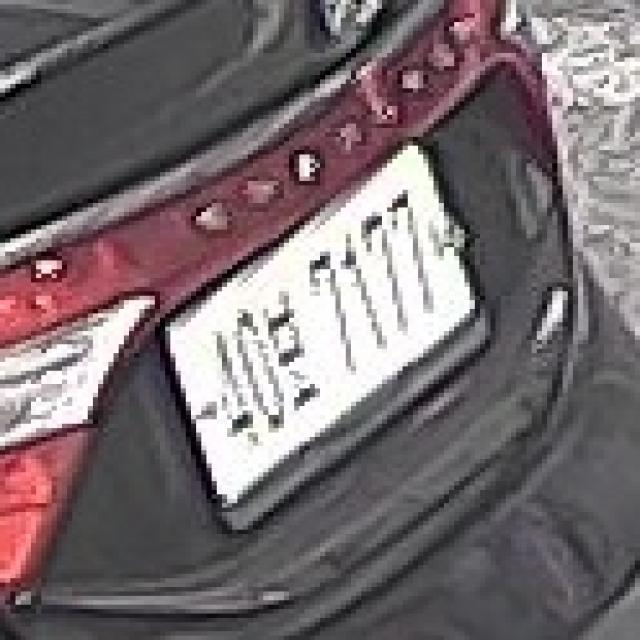0: (232, 314, 289, 428)
1: (336, 230, 387, 348)
4: (201, 331, 258, 446)
7: (299, 256, 356, 371), (356, 216, 413, 327), (392, 190, 434, 309)
bo: (258, 296, 320, 406)
license_plate: (150, 137, 500, 521)
